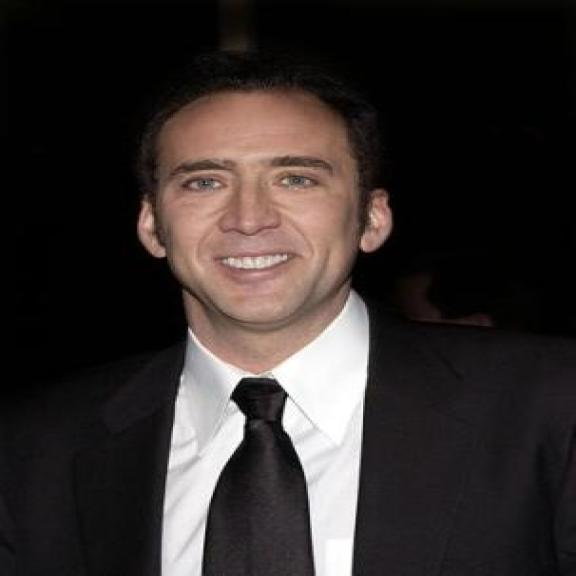face: (140, 113, 405, 327)
